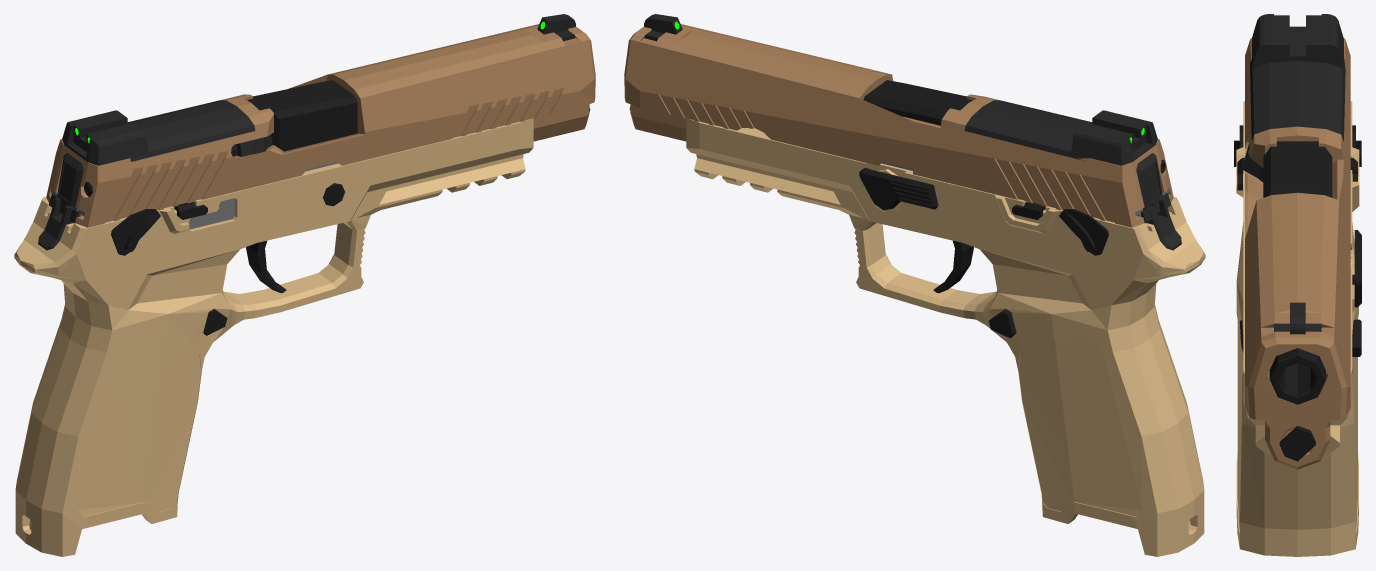
File: Sig Sauer Model.fbx
The picture shows the model from 3 angles, left to right: view 1: azimuth 30°, elevation 25°; view 2: azimuth 150°, elevation 25°; view 3: azimuth 270°, elevation 25°; orthographic projection. The views are drawn at different scales.
Visible parts, largest first — view 1: m17fs frame, m17fs slide, m17fs barrel 4.7in, m17fs safety, m17fs trigga; view 2: m17fs frame, m17fs slide, m17fs barrel 4.7in, m17fs safety, m17fs trigga; view 3: m17fs slide, m17fs frame, m17fs barrel 4.7in, m17fs safety, m17fs slide release.
Part boxes in pixels (x1,y1,x2,y2): m17fs frame: (14,108,590,556); m17fs slide: (46,14,595,227); m17fs barrel 4.7in: (247,80,357,151); m17fs safety: (111,209,160,255); m17fs trigga: (246,240,286,293); m17fs frame: (629,107,1205,556); m17fs slide: (624,14,1173,227); m17fs barrel 4.7in: (863,80,972,125); m17fs safety: (1059,209,1108,255); m17fs trigga: (933,240,973,293); m17fs slide: (1243,14,1350,469); m17fs frame: (1236,101,1361,556); m17fs barrel 4.7in: (1263,141,1332,404); m17fs safety: (1234,125,1361,166); m17fs slide release: (1237,158,1357,190).
Bounding box in the file's own units: 89.64 × 60.59 × 13.91.
